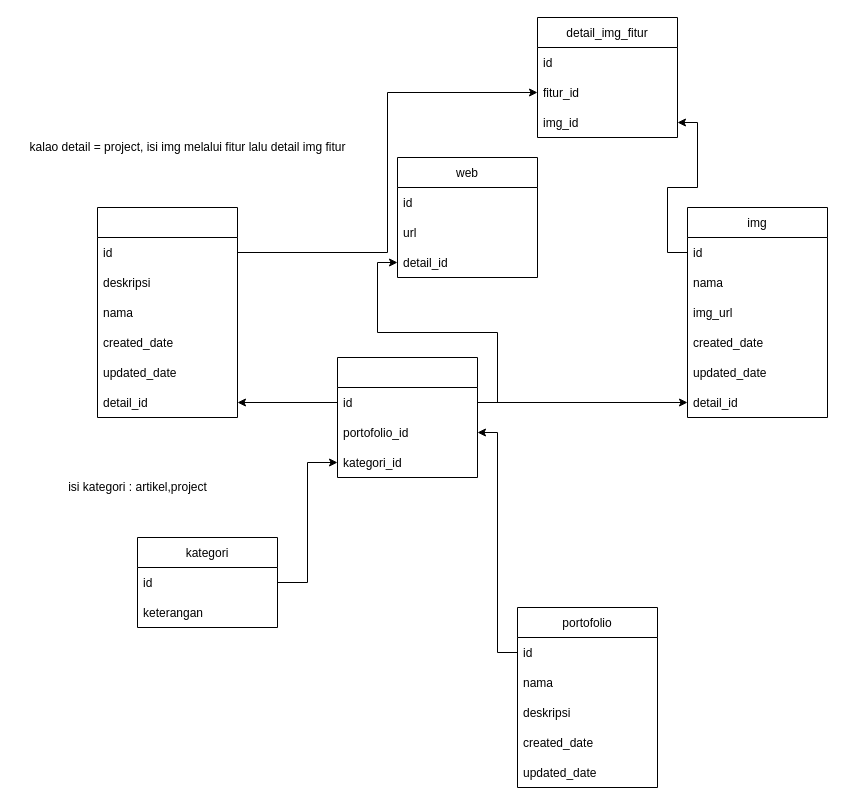
The diagram is 845 pixels wide and 805 high, and some of its shapes have lost their labels. The box of each missing label's shape, as (x1, y1, x2, y2) in pixels:
detail: (336, 356, 478, 478)
fitur: (96, 206, 238, 418)
